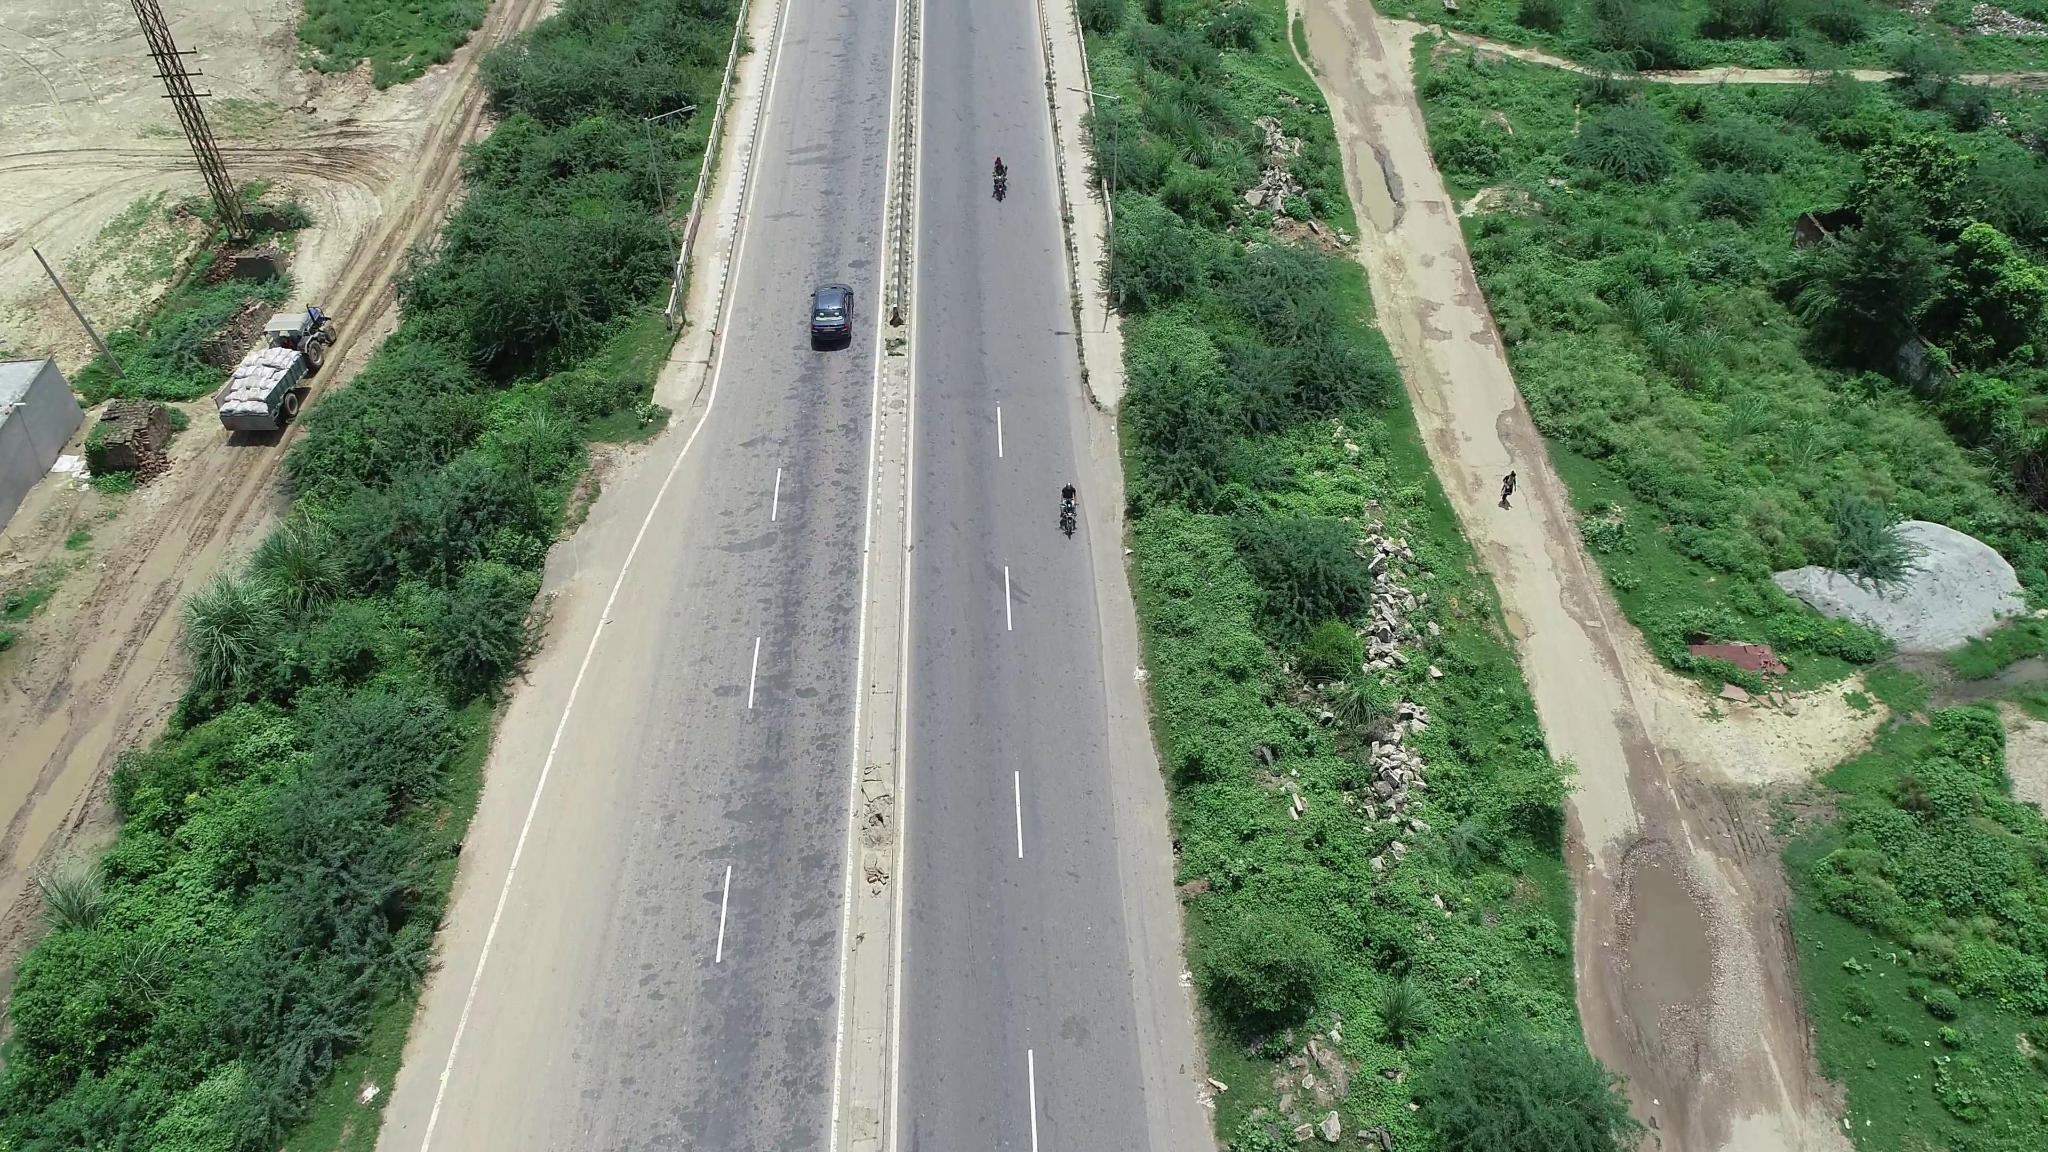Potholes: (1340, 128, 1421, 241)
